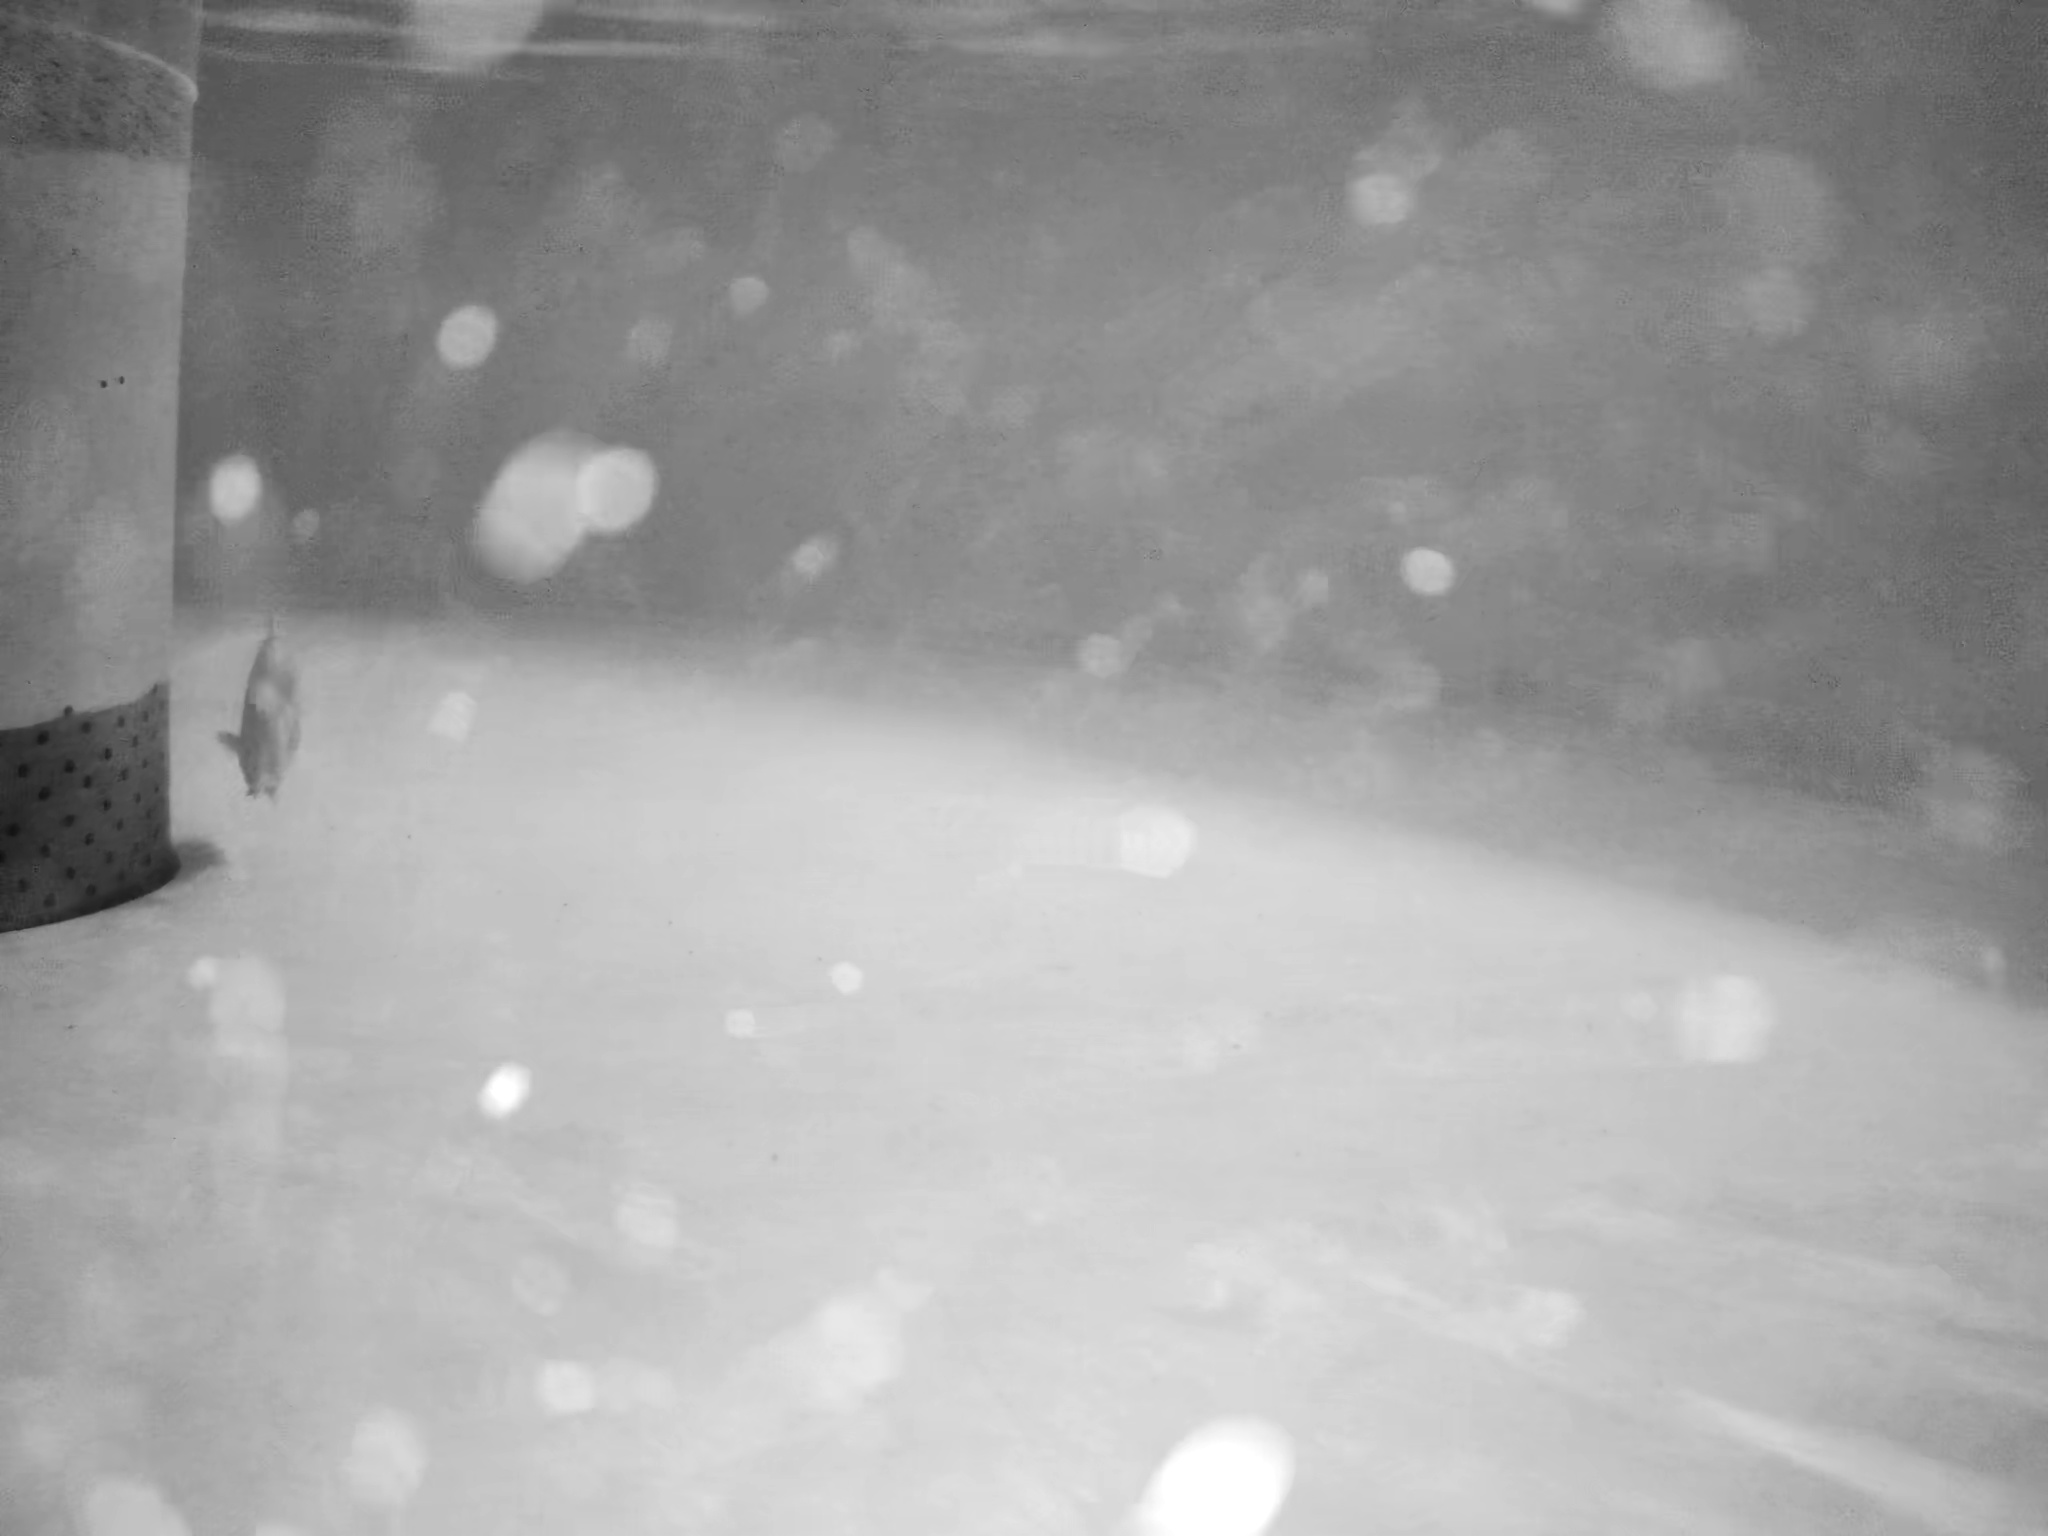fish: (211, 621, 329, 802)
